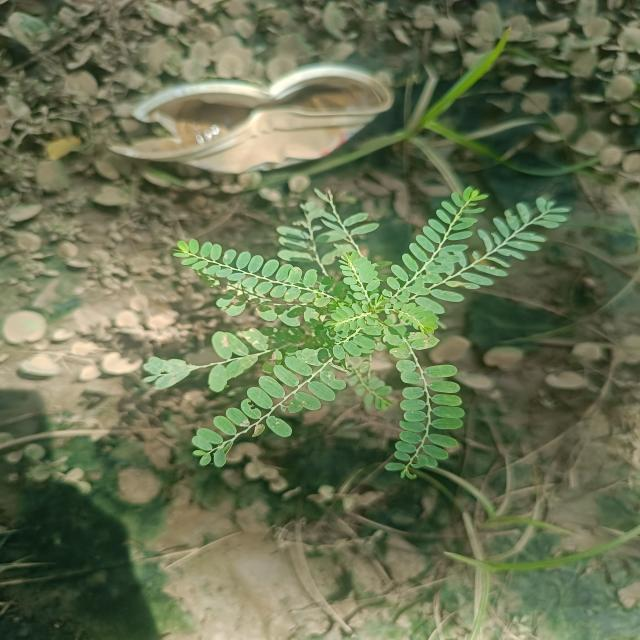weed: (154, 185, 570, 511)
